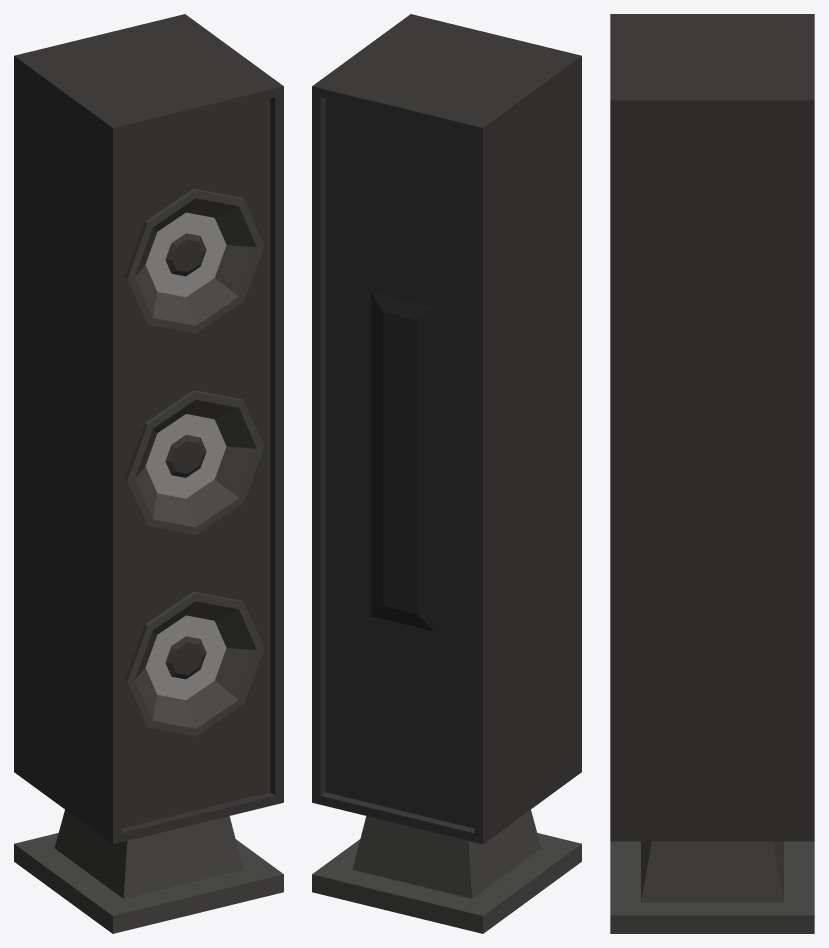
File: SM_Props_Interior_House_Room_Speaker_02.fbx
The picture shows the model from 3 angles, left to right: view 1: azimuth 30°, elevation 25°; view 2: azimuth 150°, elevation 25°; view 3: azimuth 270°, elevation 25°; orthographic projection. The views are drawn at different scales.
Parts seen in each view (by area): view 1: SM_Props_Interior_House_Room_Speaker_02; view 2: SM_Props_Interior_House_Room_Speaker_02; view 3: SM_Props_Interior_House_Room_Speaker_02.
Part boxes in pixels (x1=…): SM_Props_Interior_House_Room_Speaker_02: x1=14, y1=14, x2=283, y2=933; SM_Props_Interior_House_Room_Speaker_02: x1=312, y1=14, x2=581, y2=933; SM_Props_Interior_House_Room_Speaker_02: x1=610, y1=14, x2=814, y2=933.
Bounding box in the file's own units: 20 × 90 × 20.
